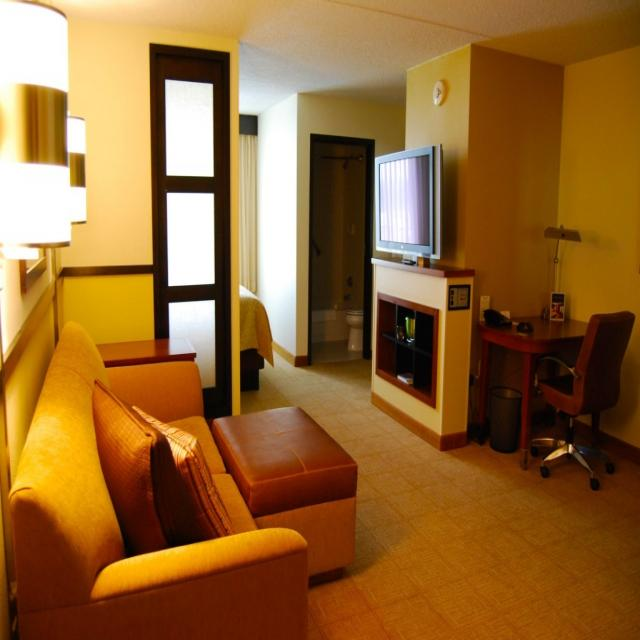chair: (533, 310, 636, 487)
desk: (462, 312, 632, 479)
tv: (373, 142, 443, 260)
